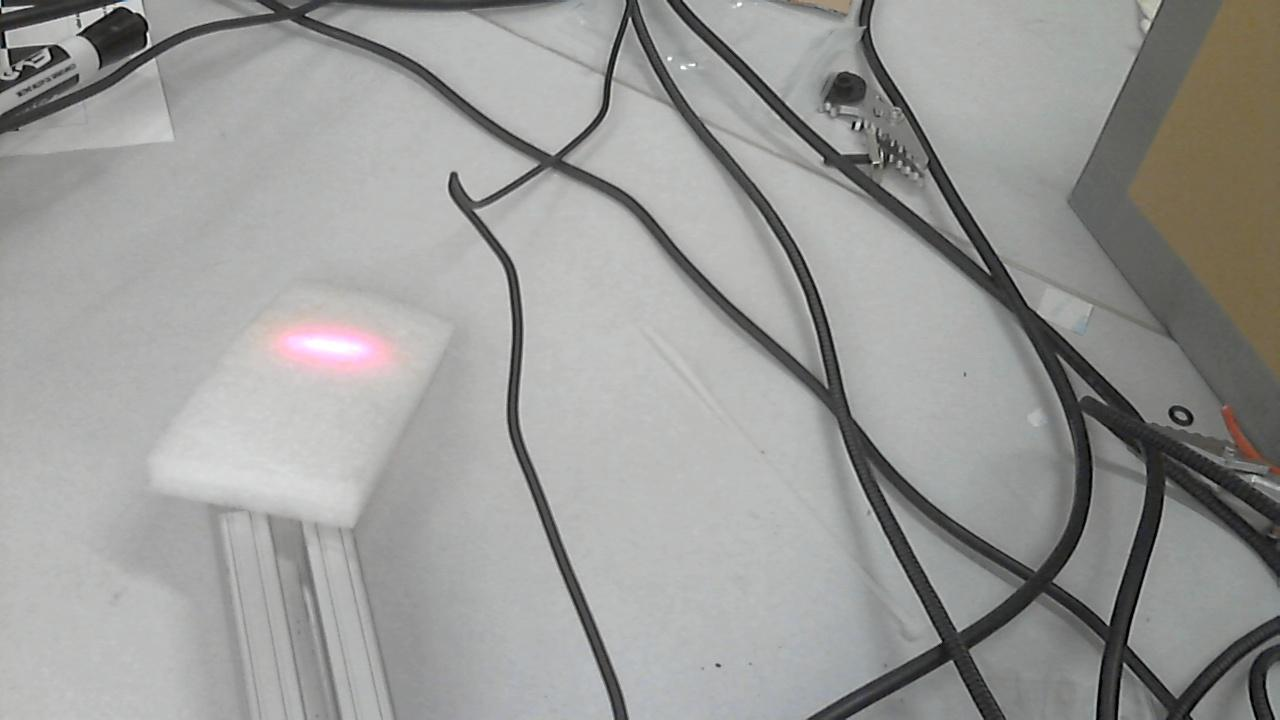Object white rectangular foam block - Material Foam - Color white - Pdfname LpbA: (267, 315, 419, 382)
